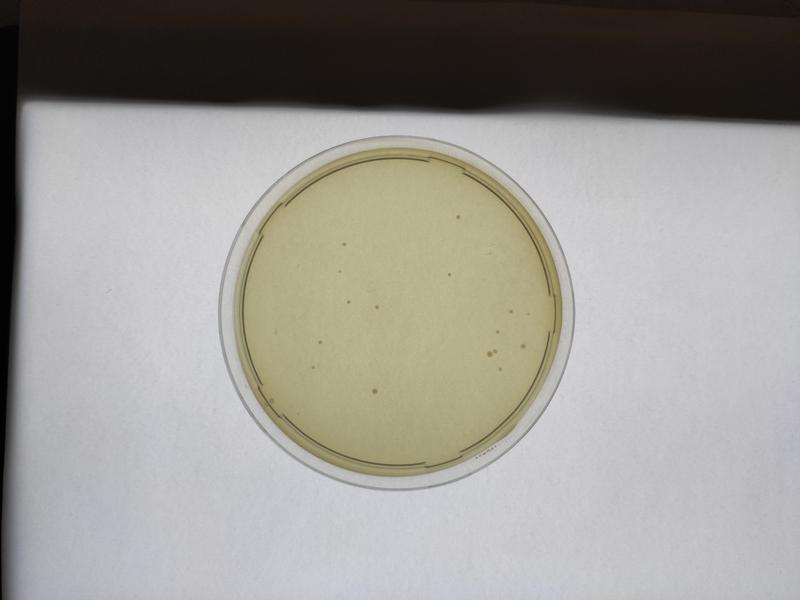colony: (367, 385, 383, 398), (518, 339, 528, 354), (451, 210, 462, 223), (339, 239, 350, 251), (342, 298, 352, 310), (315, 337, 325, 348), (371, 303, 381, 313), (444, 271, 453, 280)
